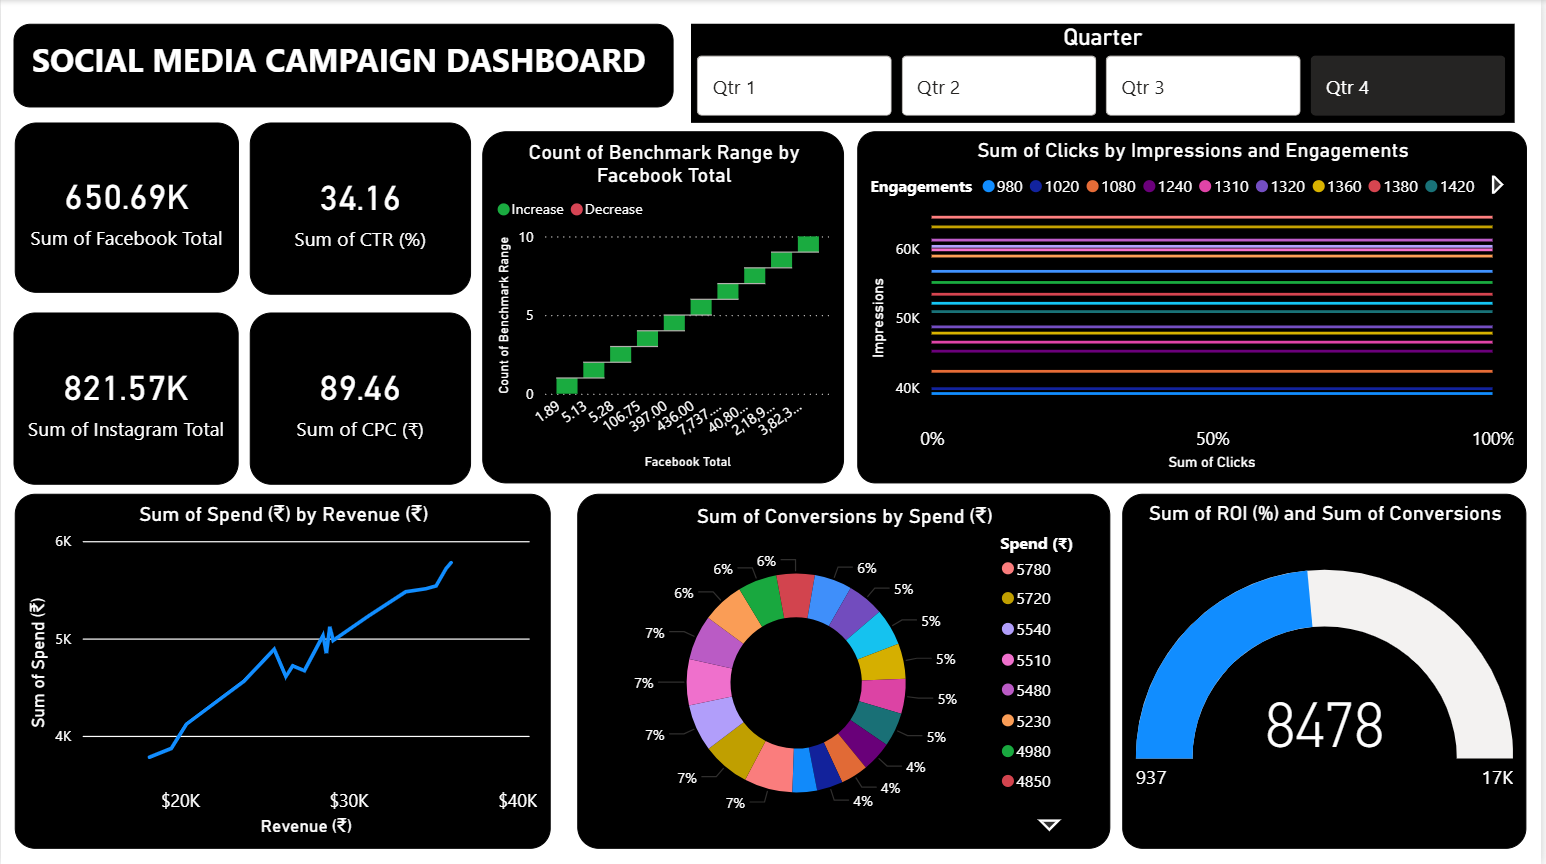

Layout of this report page (visuals, bound fields, positions):
{"tool":"powerbi","page":{"name":"Page 1","canvas":[1280,720],"ordinal":0},"visuals":[{"type":"lineChart","fields":{"Category":["Date-Platform-CampaignName-AdSetName-Impressions-Reach-Clicks-Engagements-Spend-.Revenue (₹)"],"Y":["Sum(Date-Platform-CampaignName-AdSetName-Impressions-Reach-Clicks-Engagements-Spend-.Spend (₹))"]},"box":[11.6,410.5,445.4,295.3],"z":0},{"type":"donutChart","fields":{"Category":["Date-Platform-CampaignName-AdSetName-Impressions-Reach-Clicks-Engagements-Spend-.Spend (₹)"],"Y":["Sum(Date-Platform-CampaignName-AdSetName-Impressions-Reach-Clicks-Engagements-Spend-.Conversions)"]},"box":[479.1,410.5,443,295.3],"z":1000},{"type":"gauge","fields":{"Y":["Sum(Date-Platform-CampaignName-AdSetName-Impressions-Reach-Clicks-Engagements-Spend-.ROI (%))"],"MinValue":["Sum(Date-Platform-CampaignName-AdSetName-Impressions-Reach-Clicks-Engagements-Spend-.Conversions)"]},"box":[932.6,410.5,336,295.3],"z":2000},{"type":"hundredPercentStackedBarChart","fields":{"Category":["Date-Platform-CampaignName-AdSetName-Impressions-Reach-Clicks-Engagements-Spend-.Impressions"],"Y":["Sum(Date-Platform-CampaignName-AdSetName-Impressions-Reach-Clicks-Engagements-Spend-.Clicks)"],"Series":["Date-Platform-CampaignName-AdSetName-Impressions-Reach-Clicks-Engagements-Spend-.Engagements"]},"box":[711.6,109.3,557,293],"z":3000},{"type":"card","fields":{"Values":["Sum(Metric-FacebookTotal-InstagramTotal-BenchmarkRange.Facebook Total)"]},"box":[11.6,102.3,186,141.9],"z":4000},{"type":"card","fields":{"Values":["Sum(Metric-FacebookTotal-InstagramTotal-BenchmarkRange.Instagram Total)"]},"box":[10.5,259.3,187.2,143],"z":5000},{"type":"card","fields":{"Values":["Sum(Date-Platform-CampaignName-AdSetName-Impressions-Reach-Clicks-Engagements-Spend-.CTR (%))"]},"box":[207,102.3,183.7,143],"z":6000},{"type":"card","fields":{"Values":["Sum(Date-Platform-CampaignName-AdSetName-Impressions-Reach-Clicks-Engagements-Spend-.CPC (₹))"]},"box":[207,259.3,183.7,143],"z":7000},{"type":"advancedSlicerVisual","fields":{"Values":["Date-Platform-CampaignName-AdSetName-Impressions-Reach-Clicks-Engagements-Spend-.Date.Variation.Date Hierarchy.Quarter"]},"box":[573.3,19.8,684.9,82.6],"z":8000},{"type":"textbox","box":[10.5,19.8,548.8,69.8],"z":9000},{"type":"waterfallChart","fields":{"Category":["Metric-FacebookTotal-InstagramTotal-BenchmarkRange.Facebook Total"],"Y":["CountNonNull(Metric-FacebookTotal-InstagramTotal-BenchmarkRange.Benchmark Range)"]},"box":[400,109.3,301.2,293],"z":10000}]}

Visuals, with their boxes in screenshot pixels (x1, y1, x2, y2), scaled from the page's 1280x720 canvas onto the 1546x864 screenshot:
lineChart - Date-Platform-CampaignName-AdSetName-Impressions-Reach-Clicks-Engagements-Spend-.Revenue (₹) x Sum(Date-Platform-CampaignName-AdSetName-Impressions-Reach-Clicks-Engagements-Spend-.Spend (₹)): (14, 493, 552, 847)
donutChart - Date-Platform-CampaignName-AdSetName-Impressions-Reach-Clicks-Engagements-Spend-.Spend (₹) x Sum(Date-Platform-CampaignName-AdSetName-Impressions-Reach-Clicks-Engagements-Spend-.Conversions): (579, 493, 1114, 847)
gauge - Sum(Date-Platform-CampaignName-AdSetName-Impressions-Reach-Clicks-Engagements-Spend-.ROI (%)) x Sum(Date-Platform-CampaignName-AdSetName-Impressions-Reach-Clicks-Engagements-Spend-.Conversions): (1126, 493, 1532, 847)
hundredPercentStackedBarChart - Date-Platform-CampaignName-AdSetName-Impressions-Reach-Clicks-Engagements-Spend-.Impressions x Sum(Date-Platform-CampaignName-AdSetName-Impressions-Reach-Clicks-Engagements-Spend-.Clicks): (859, 131, 1532, 483)
card - Sum(Metric-FacebookTotal-InstagramTotal-BenchmarkRange.Facebook Total): (14, 123, 239, 293)
card - Sum(Metric-FacebookTotal-InstagramTotal-BenchmarkRange.Instagram Total): (13, 311, 239, 483)
card - Sum(Date-Platform-CampaignName-AdSetName-Impressions-Reach-Clicks-Engagements-Spend-.CTR (%)): (250, 123, 472, 294)
card - Sum(Date-Platform-CampaignName-AdSetName-Impressions-Reach-Clicks-Engagements-Spend-.CPC (₹)): (250, 311, 472, 483)
advancedSlicerVisual - Date-Platform-CampaignName-AdSetName-Impressions-Reach-Clicks-Engagements-Spend-.Date.Variation.Date Hierarchy.Quarter: (692, 24, 1520, 123)
textbox: (13, 24, 676, 108)
waterfallChart - Metric-FacebookTotal-InstagramTotal-BenchmarkRange.Facebook Total x CountNonNull(Metric-FacebookTotal-InstagramTotal-BenchmarkRange.Benchmark Range): (483, 131, 847, 483)
